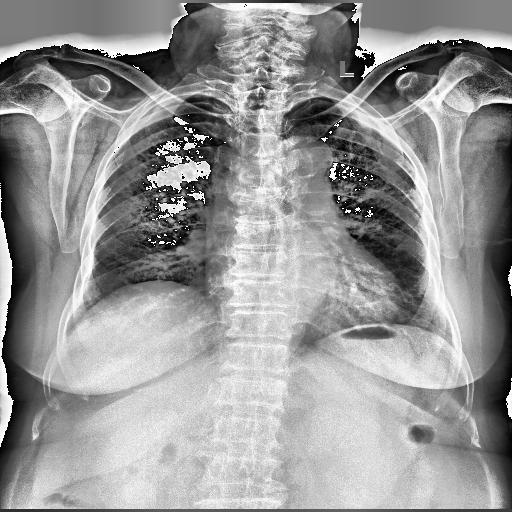0- Aortic enlargement: (264, 136, 334, 190), (274, 136, 331, 188), (278, 136, 334, 176)
3- Cardiomegaly: (204, 248, 404, 323), (210, 266, 419, 337), (203, 270, 404, 322)
6- Infiltration: (362, 170, 418, 211)
7- Lung Opacity: (362, 170, 418, 211)
